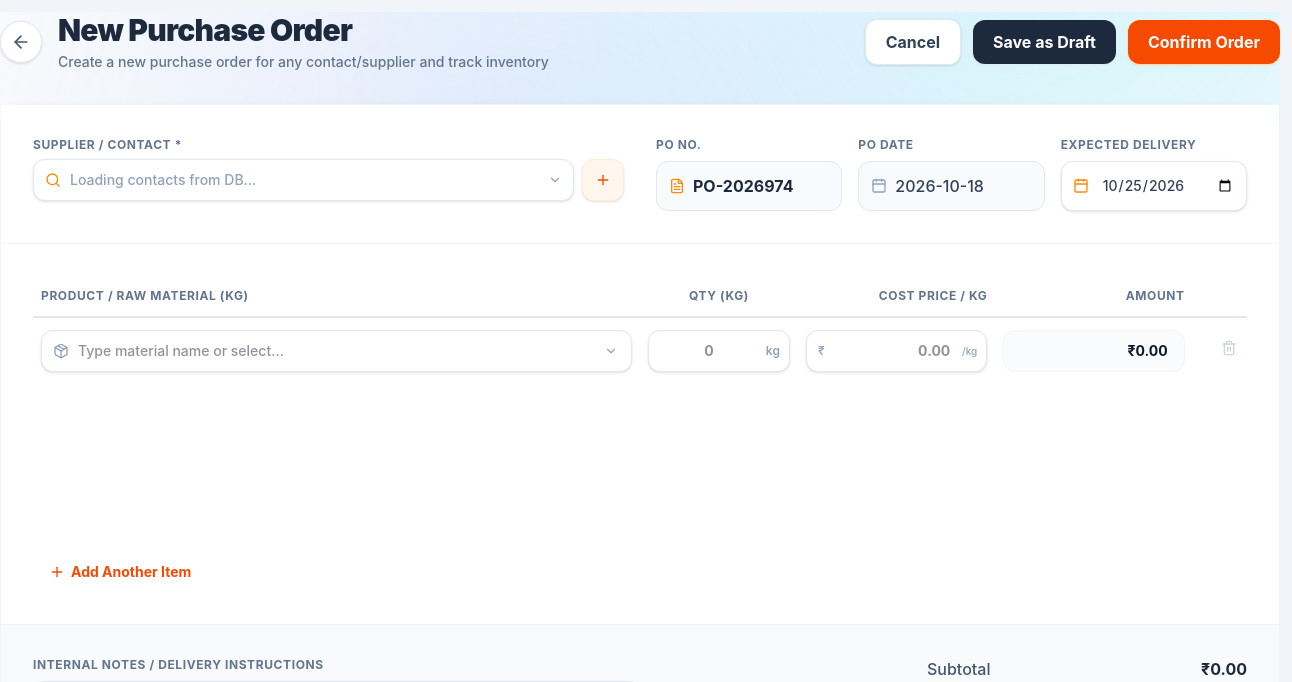
Test: CreatePurchase Component › allows typing decimals in price and formats with commas on blur
The image size is (1292, 682).
Note: Type decimal in qty
Type "250.75" into the field with placeholder "0".
click(719, 351); type("250.75")  # box [648,330,790,372]
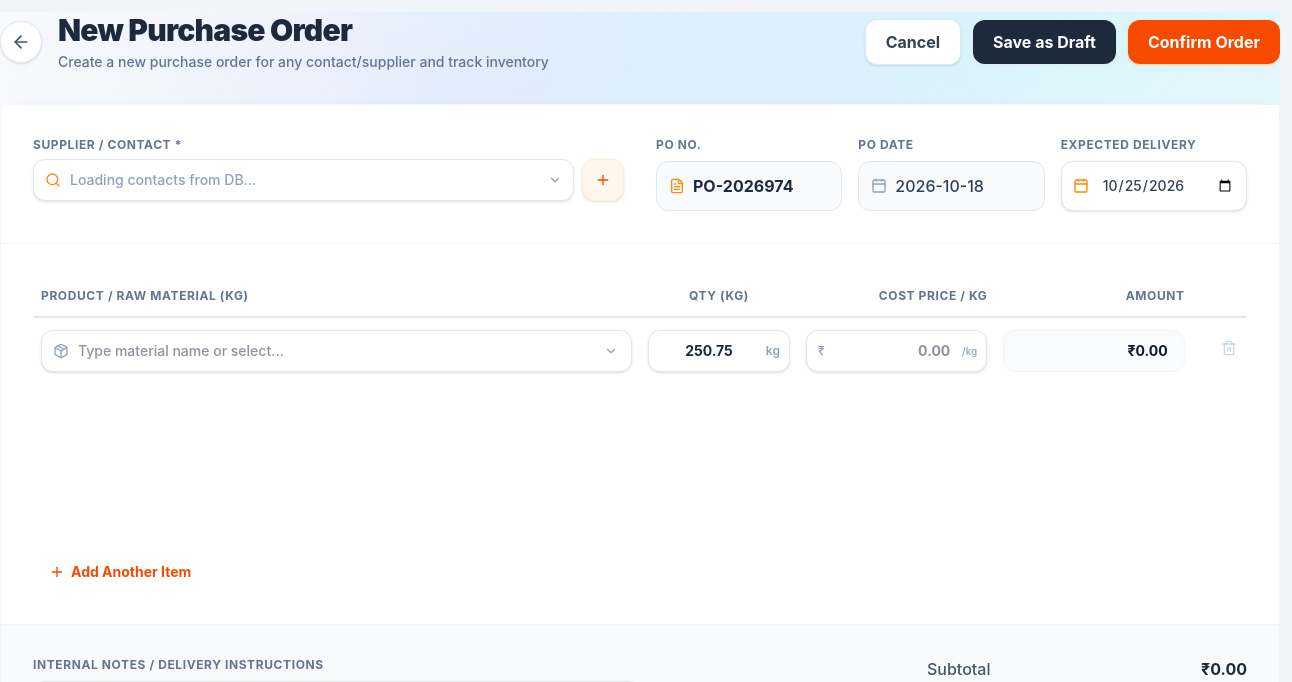
Note: Type decimal in cost price
Type "12300.50" into the field with placeholder "0.00" next to "/kg".
click(897, 351); type("12300.50")  # box [806,330,987,372]
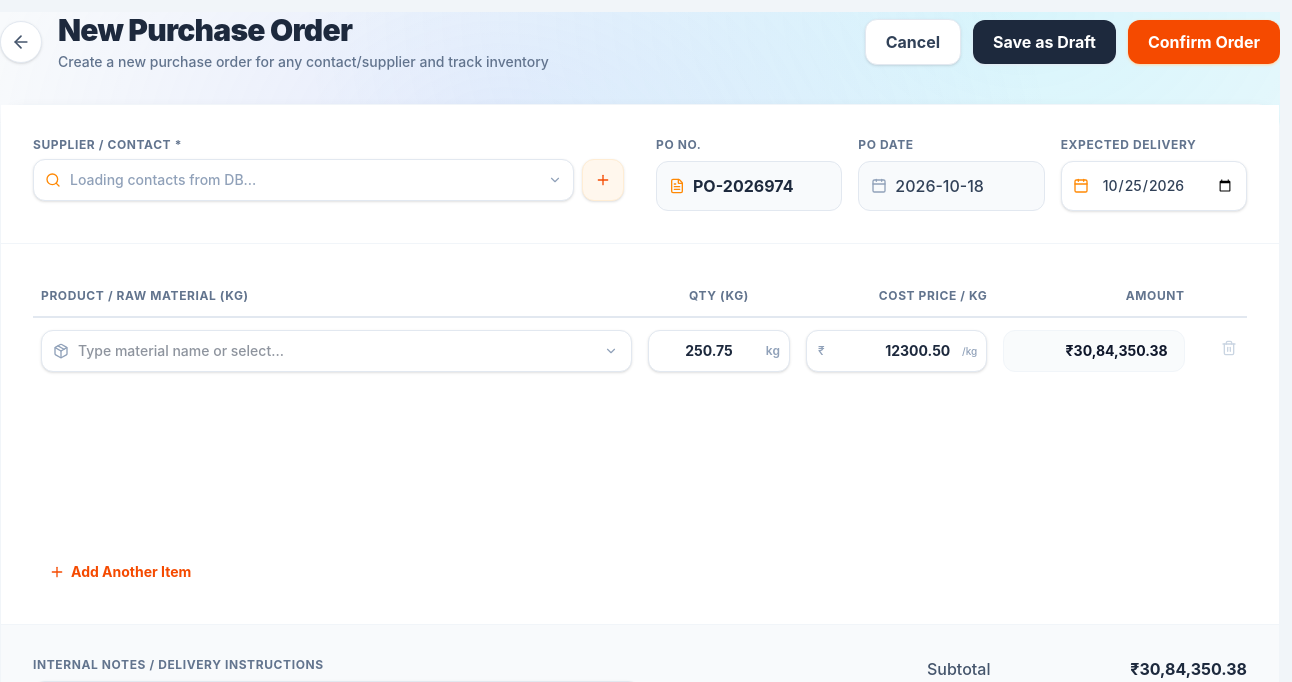
Note: On blur, format with Indian commas
Leave the field with placeholder "0.00" next to "/kg", box [806,330,987,372]
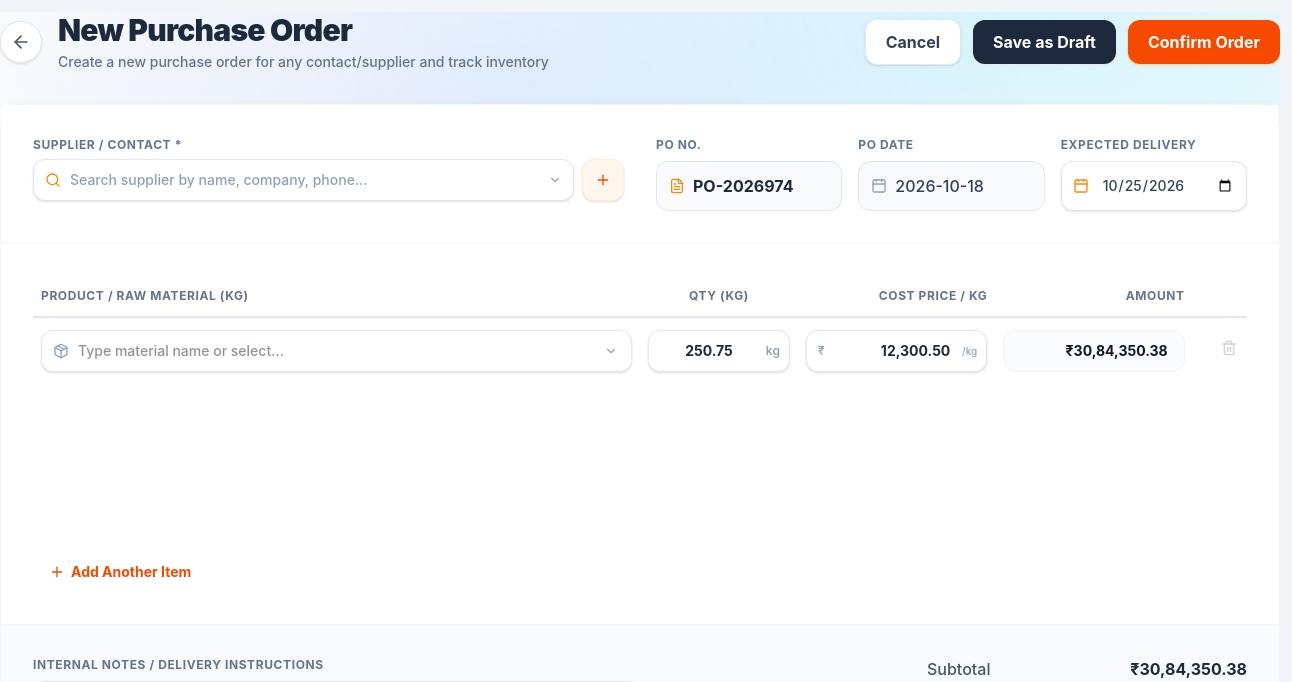
Result: the field with placeholder "0.00" next to "/kg" holds "12,300.50" at [806,330,987,372]
